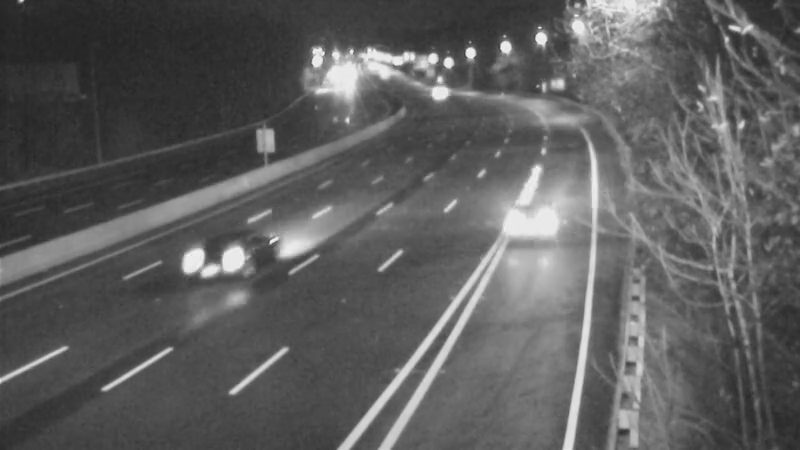vehicle: (490, 176, 570, 256), (191, 214, 271, 294), (411, 66, 461, 116)
